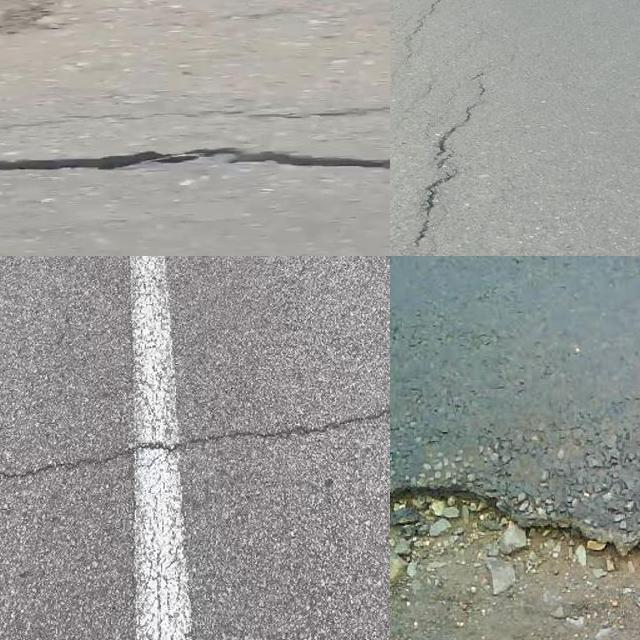Melintang: (0, 397, 390, 496), (390, 464, 640, 579), (0, 132, 390, 187)
Memanjang: (390, 80, 495, 256)
